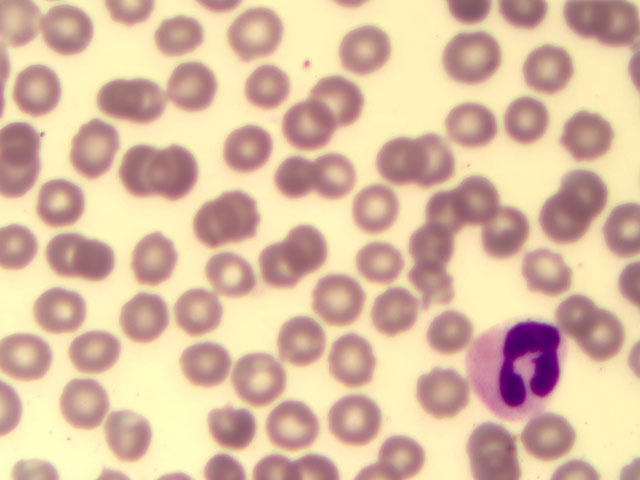Platelets: (302, 56, 316, 75)
RBC: (42, 3, 95, 52), (15, 66, 68, 115), (1, 118, 54, 167), (70, 121, 123, 170), (82, 75, 135, 124), (129, 74, 182, 123), (163, 58, 216, 107), (159, 6, 212, 55), (235, 4, 288, 53), (244, 64, 297, 113), (225, 118, 278, 167), (265, 104, 318, 153), (319, 81, 372, 130), (265, 149, 318, 198), (308, 149, 361, 198), (223, 186, 276, 235), (189, 198, 242, 247), (158, 137, 211, 186), (108, 145, 161, 194), (78, 230, 131, 279), (41, 227, 94, 276), (36, 179, 89, 228), (39, 288, 92, 337), (3, 326, 56, 375), (67, 327, 120, 376), (119, 292, 172, 341), (130, 230, 183, 279), (167, 282, 220, 331), (205, 253, 258, 302), (275, 315, 328, 364), (253, 239, 306, 288), (268, 217, 321, 266), (314, 278, 367, 327), (344, 240, 397, 289), (352, 182, 405, 231), (366, 138, 419, 187), (408, 135, 461, 184), (442, 101, 495, 150), (452, 30, 505, 79), (337, 25, 390, 74), (516, 41, 569, 90), (501, 95, 554, 144), (556, 105, 609, 154), (550, 164, 603, 213), (544, 192, 597, 241), (523, 246, 576, 295), (485, 206, 538, 255), (461, 163, 514, 212), (427, 185, 480, 234), (411, 213, 464, 262), (405, 246, 458, 295), (371, 292, 424, 341), (427, 311, 480, 360), (421, 367, 474, 416), (333, 331, 386, 380), (323, 387, 376, 436), (369, 428, 422, 477), (270, 396, 323, 445), (241, 357, 294, 406), (186, 333, 239, 382), (210, 403, 263, 452), (100, 411, 153, 460), (64, 379, 117, 428), (467, 423, 520, 472), (524, 412, 577, 461), (582, 315, 635, 364), (553, 287, 606, 336), (587, 1, 640, 50), (1, 2, 38, 45)
WBC: (471, 319, 566, 410)
